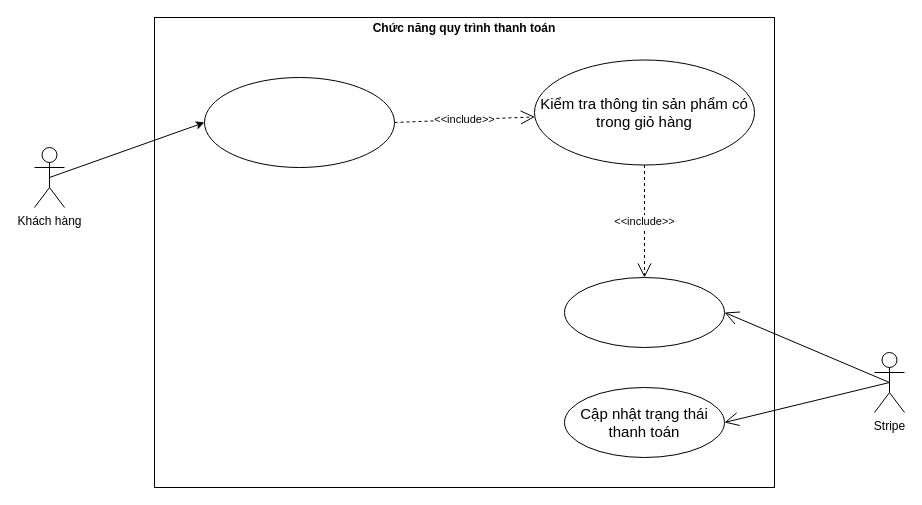
This 922x505 diagram has some shape labels left out. The shapes that lost their labels are listed below. From the top down, each one's box as (x1, y1, x2, y2) in pixels, then its label:
(204, 76, 394, 168): Chọn hình thức thanh toán (thẻ, hoặc mã QR)
(564, 276, 724, 348): Xử lý thanh toán
